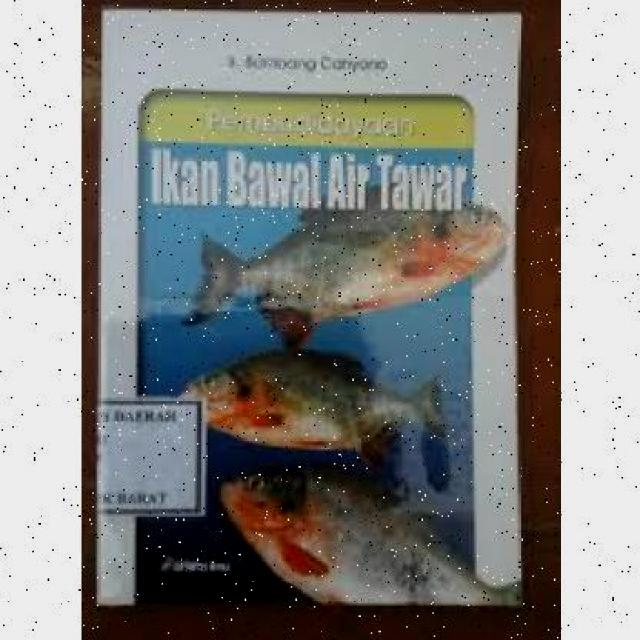ikan-pacu: (190, 185, 504, 332), (207, 460, 518, 602), (176, 344, 439, 453)
